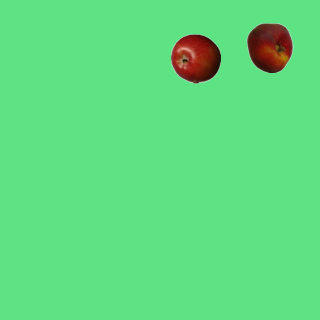Apple Braeburn: (170, 33, 220, 83)
Nectarine Flat: (244, 22, 294, 72)
